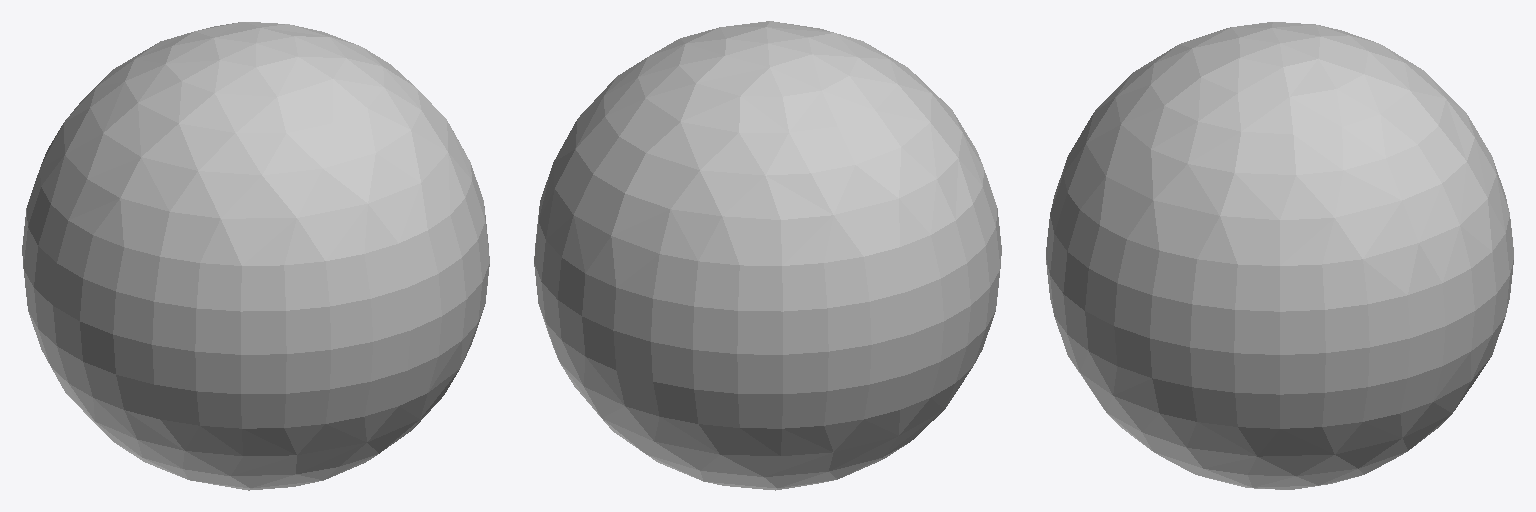
File: less_sphere.obj
3 renders of one model, left to right at view 1: azimuth 30°, elevation 25°; view 2: azimuth 150°, elevation 25°; view 3: azimuth 270°, elevation 25°, orthographic.
Size of the model in its own units: 2 by 2 by 2.